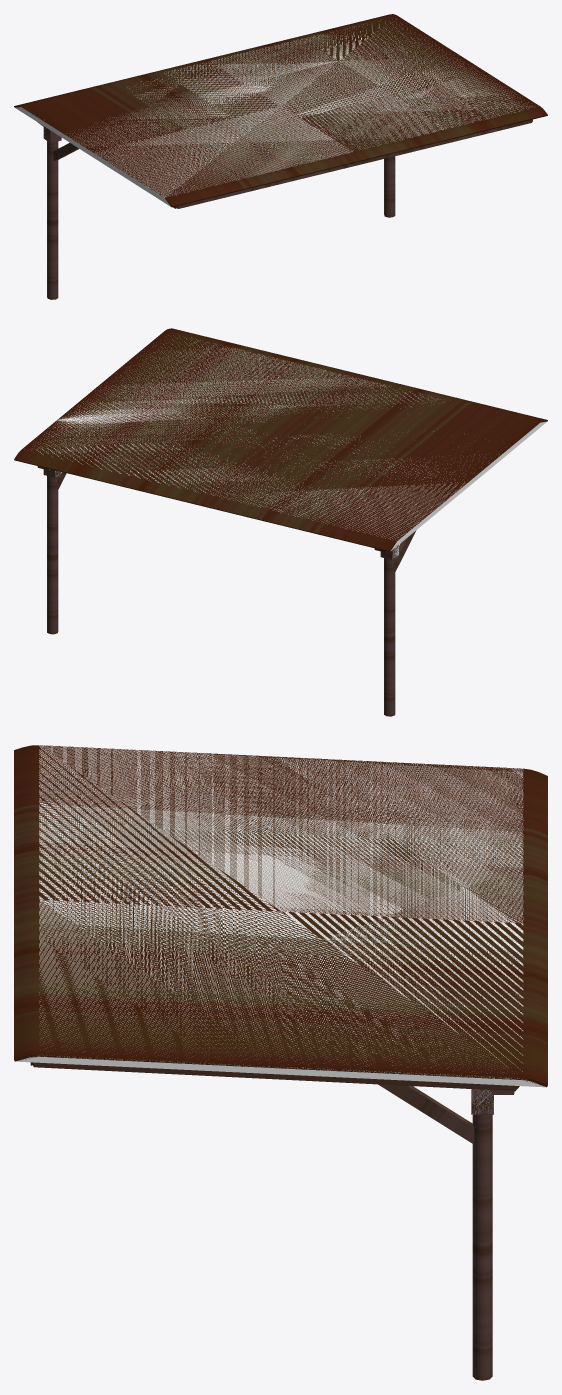
File: objects_un_t04barn01.gltf
3 renders of one model, top to bottom at view 1: azimuth 30°, elevation 25°; view 2: azimuth 150°, elevation 25°; view 3: azimuth 270°, elevation 25°, orthographic. The views are drawn at different scales.
Parts seen in each view (by area): view 1: um_objects_un_t04barn01_model_lod0Shape:objects_un_t04barn01 (×3); view 2: um_objects_un_t04barn01_model_lod0Shape:objects_un_t04barn01 (×3); view 3: um_objects_un_t04barn01_model_lod0Shape:objects_un_t04barn01 (×3).
Boxes of the visible parts, bbox=[...] form: um_objects_un_t04barn01_model_lod0Shape:objects_un_t04barn01 (×3): bbox=[14, 14, 547, 299]; um_objects_un_t04barn01_model_lod0Shape:objects_un_t04barn01 (×3): bbox=[14, 328, 547, 716]; um_objects_un_t04barn01_model_lod0Shape:objects_un_t04barn01 (×3): bbox=[14, 745, 547, 1380].
Size of the model in its own units: 8.86 by 4.51 by 6.46.
Materials: 3 (2 with a texture image).
